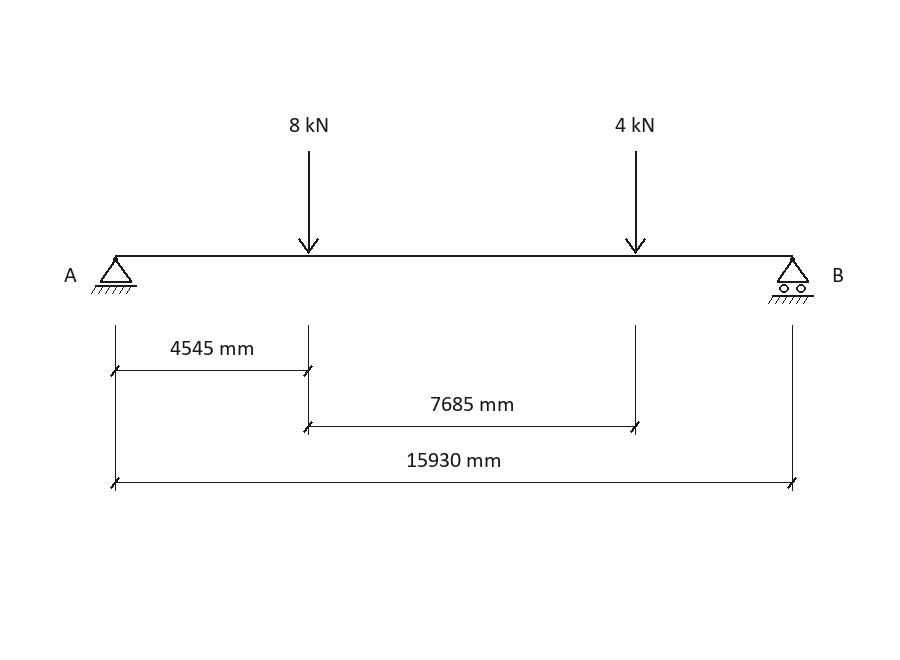pin_support: (91, 257, 137, 294)
point_load: (298, 151, 319, 254), (625, 151, 646, 254)
roller_support: (768, 257, 814, 304)
